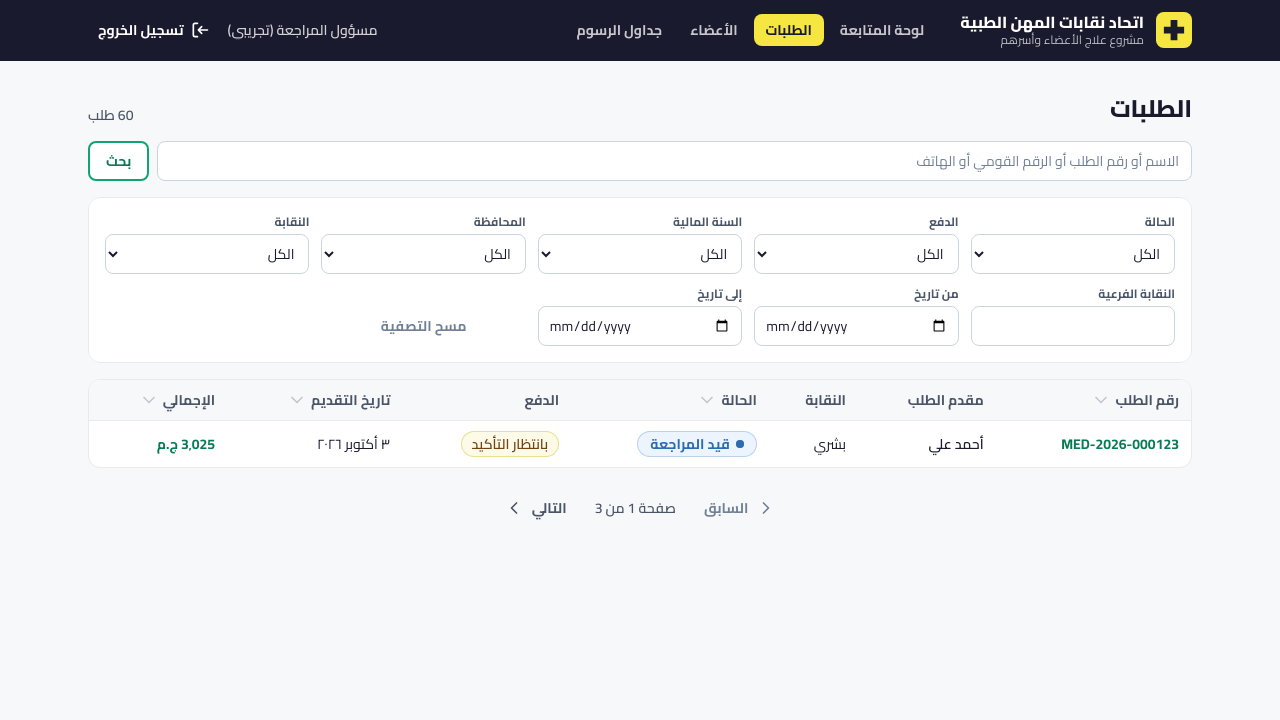
Test: AdminApplicationsPage (PROMPT.md §44, §45) › paginates on the server (25 per page)
The image size is (1280, 720).
Expected: the text "صفحة 1 من 3" is shown, [595, 498, 676, 518]
Expected: the text "60 طلب" is shown, [88, 105, 134, 125]
Click the button "التالي" at (535,508), box [488, 488, 583, 528]
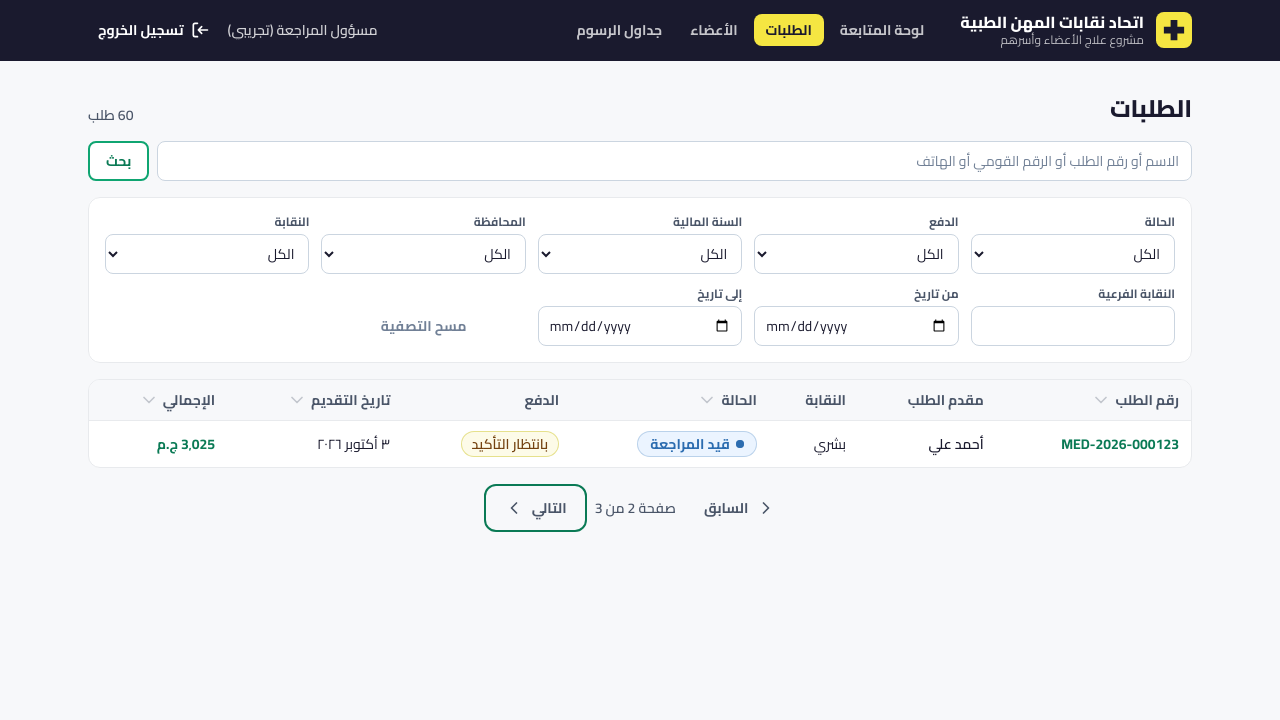
Result: the text "صفحة 2 من 3" is shown at [595, 498, 676, 518]
